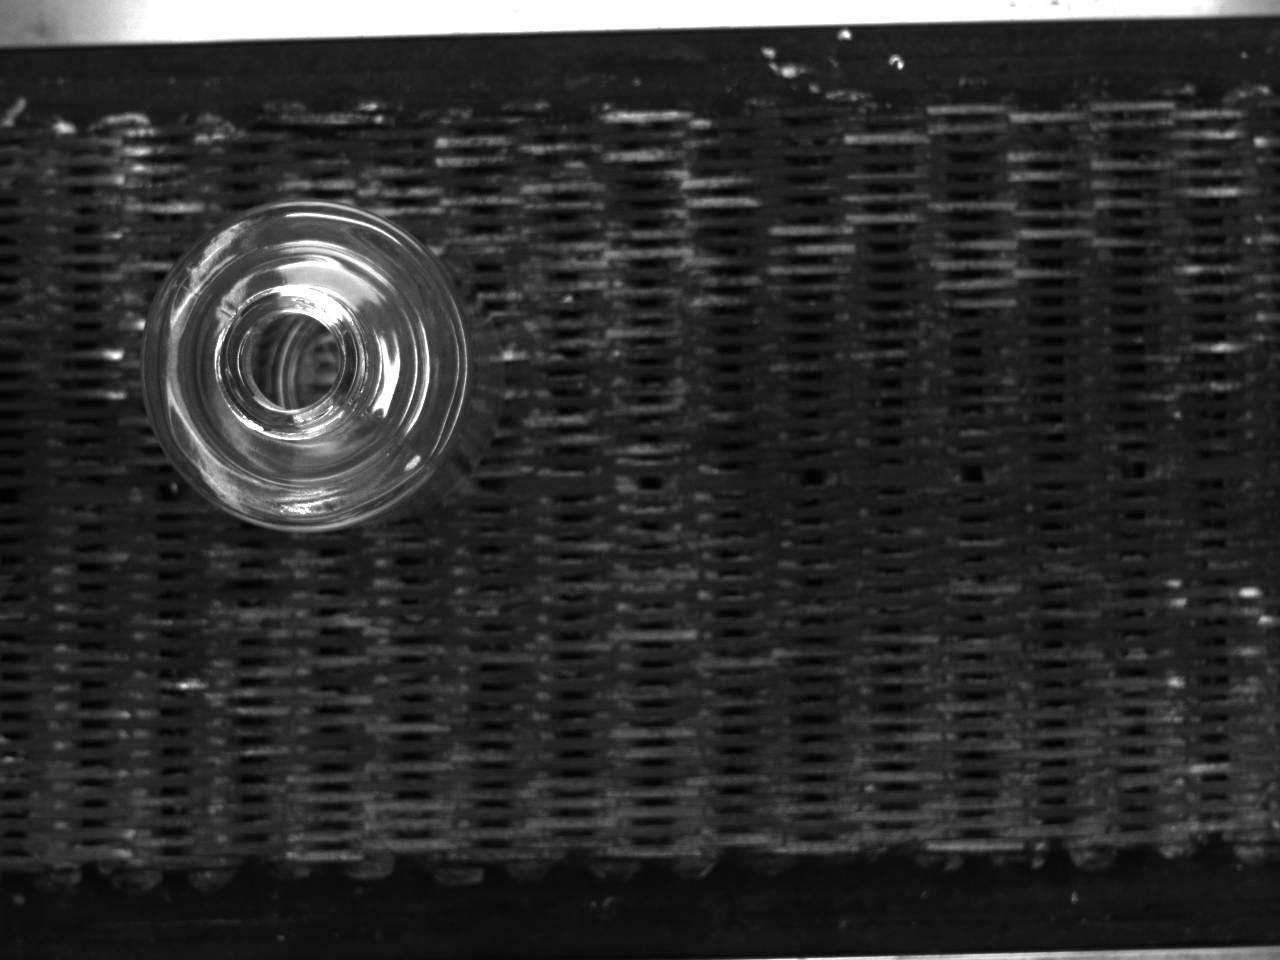bottleneck: (215, 284, 369, 440)
